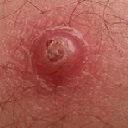Squamous Carcinoma: (28, 28, 84, 80)
